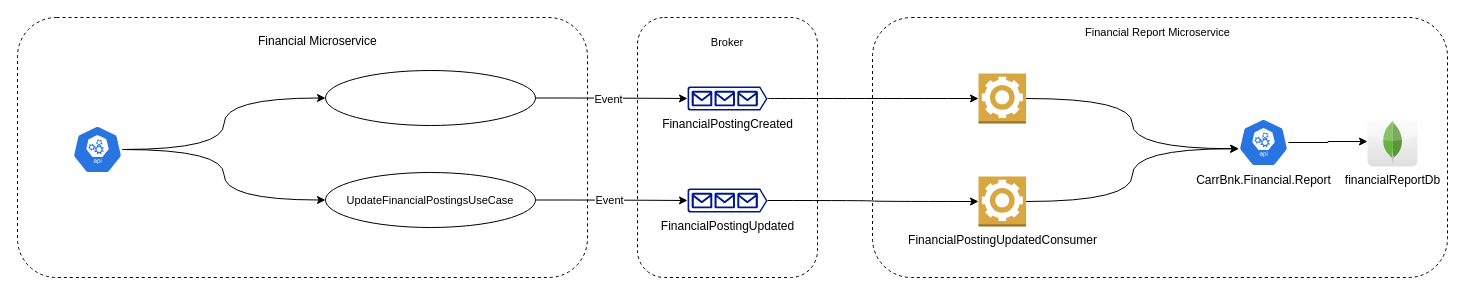
The diagram is 1465 pixels wide and 295 high, and some of its shapes have lost their labels. Each missing label, with the box of its shape:
CarrBnk.Financial: (72, 124, 122, 174)
CreateFinancialPostingsUseCase: (324, 70, 536, 126)
FinancialPostingCreatedConsumer: (978, 72, 1026, 124)
